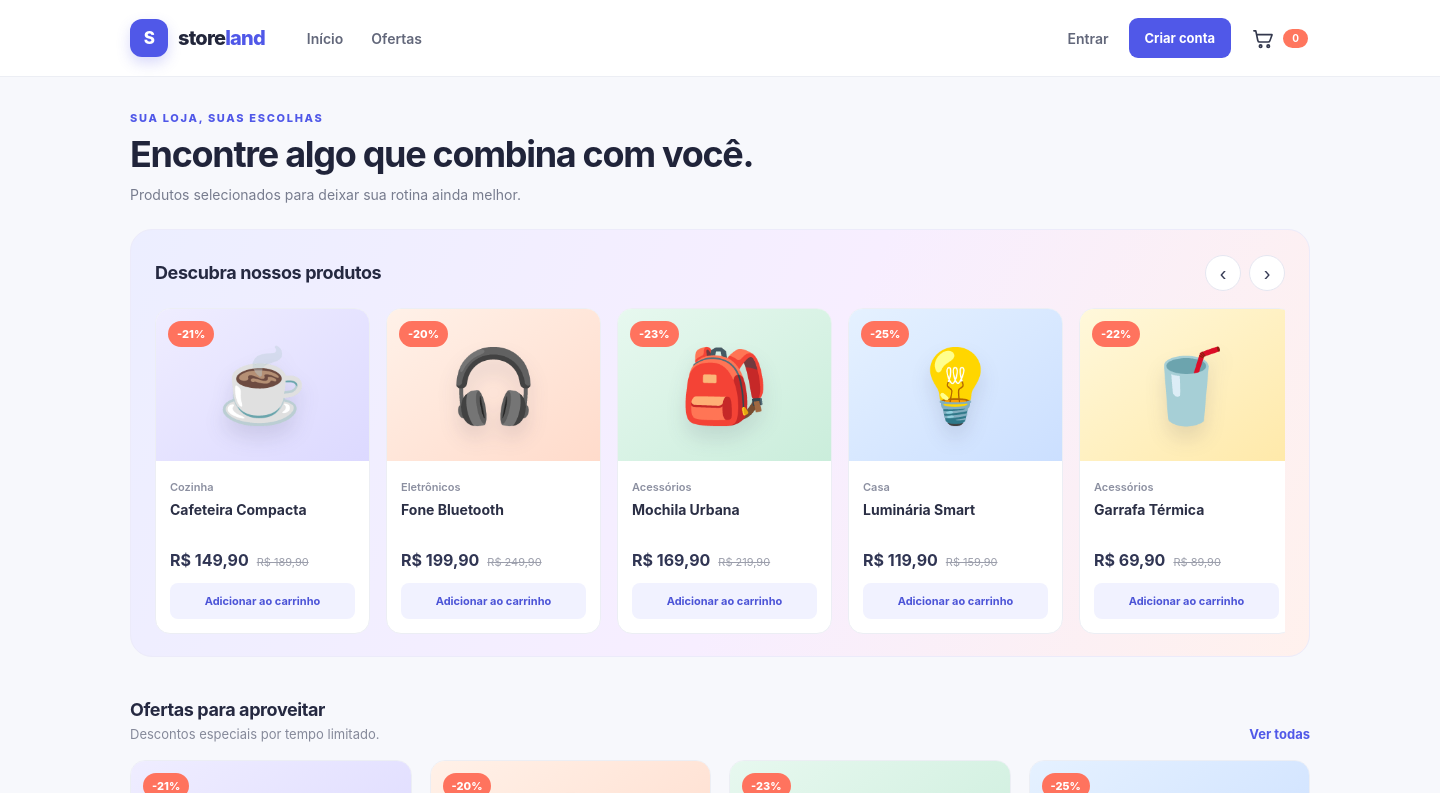
Test case: adds a product to the cart and displays its total
The image size is (1440, 793).
Click the 1st button "Adicionar ao carrinho": coordinates (262, 601) x1=170 y1=583 x2=355 y2=619
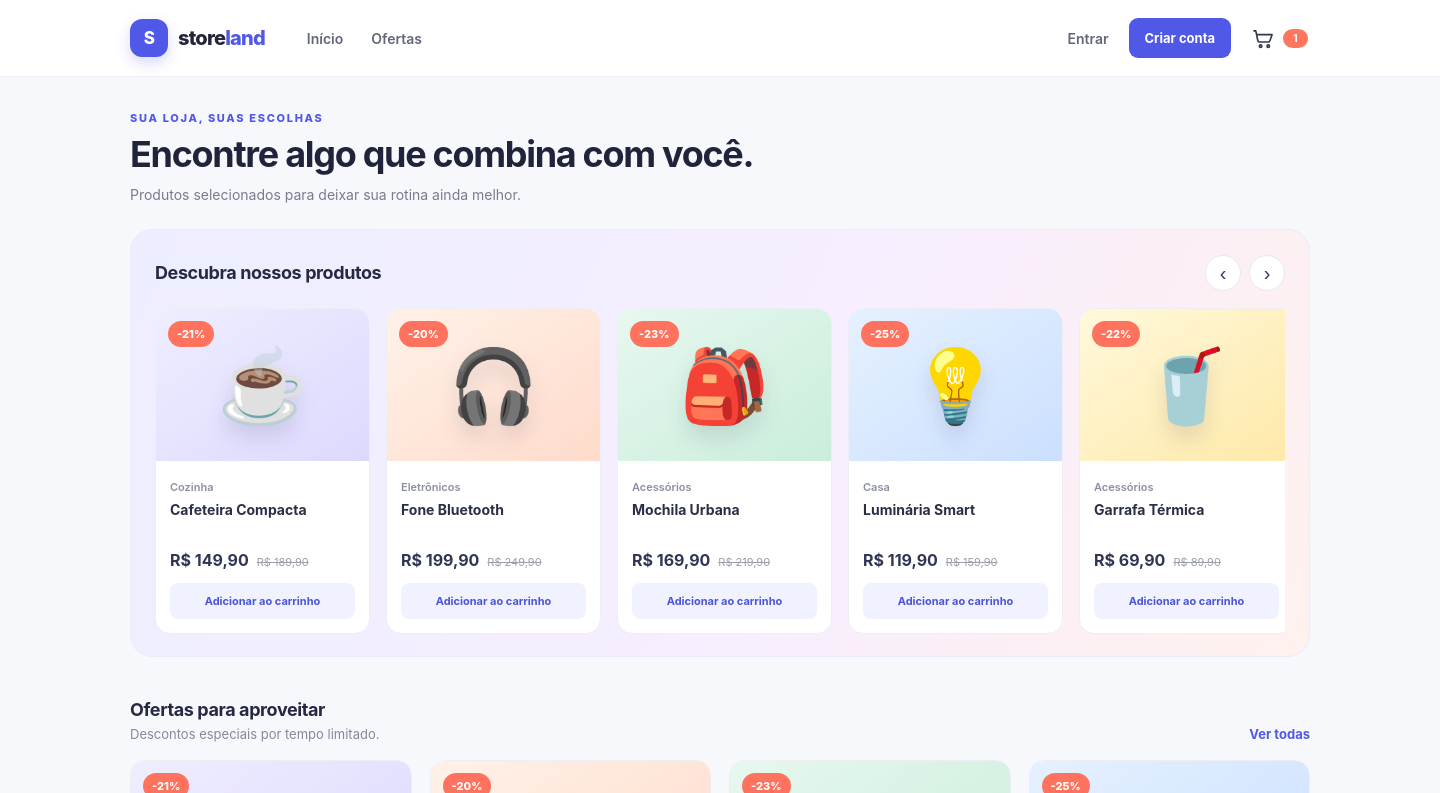
Click the link named "Carrinho de compras, 1 itens": coordinates (1280, 38) x1=1251 y1=26 x2=1310 y2=50
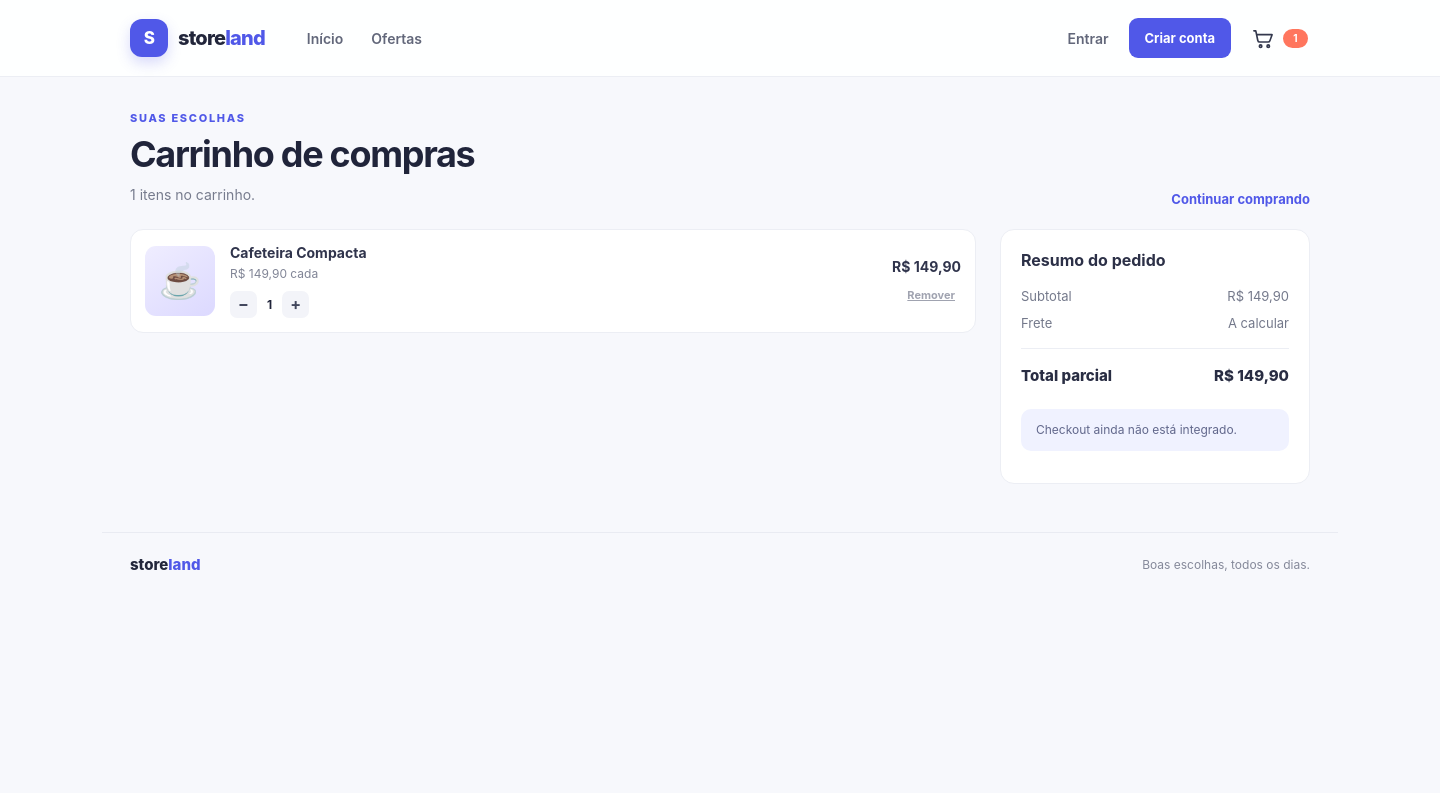
Expected: the heading "Cafeteira Compacta" is shown, x1=230 y1=244 x2=366 y2=261
Expected: the heading "Carrinho de compras" is shown, x1=130 y1=134 x2=474 y2=175
Expected: the text "R$ 149,90" is shown 3 times, x1=892 y1=258 x2=961 y2=275; x1=1227 y1=288 x2=1289 y2=304; x1=1214 y1=366 x2=1289 y2=385
